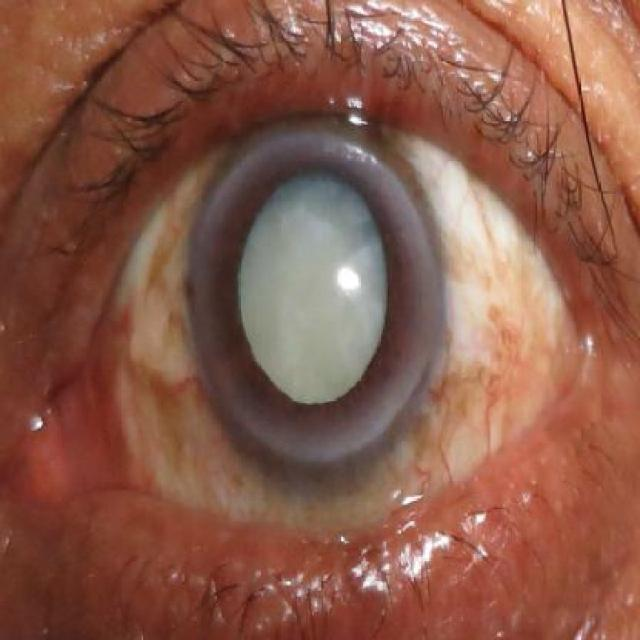Cataract: (182, 135, 450, 466)
